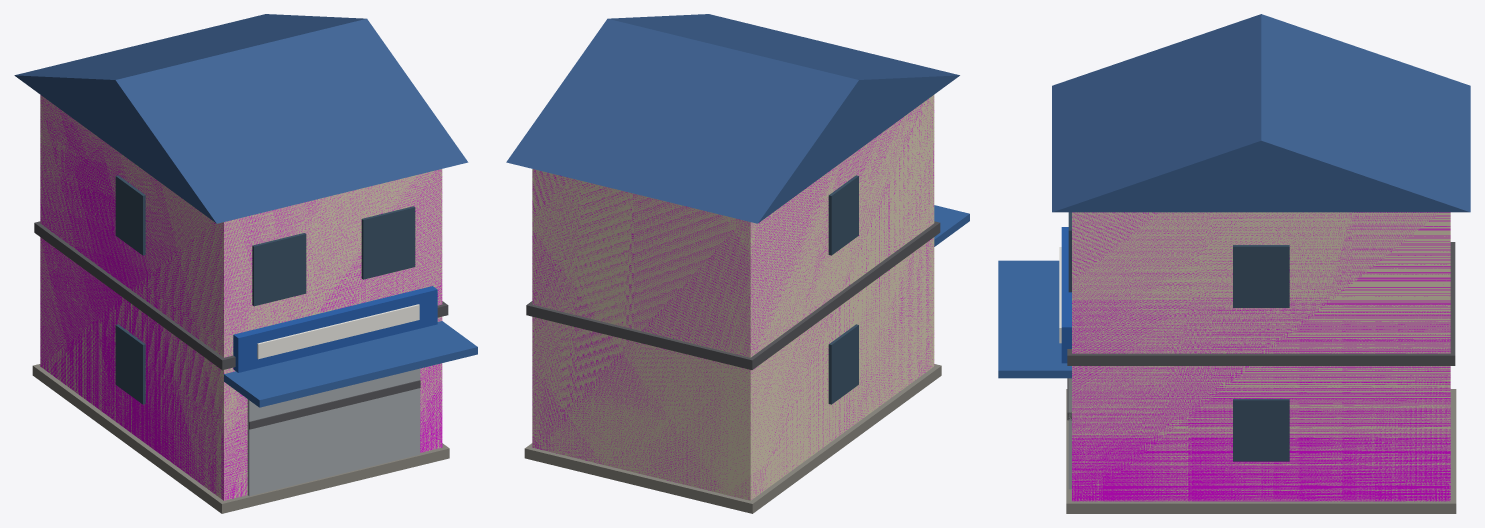
The model's file is Shop_2S_01.glb.
3 renders of one model, left to right at view 1: azimuth 30°, elevation 25°; view 2: azimuth 150°, elevation 25°; view 3: azimuth 270°, elevation 25°, orthographic. The views are drawn at different scales.
Visible parts, largest first — view 1: Shop_2S_01, Shop_2S_01_COL; view 2: Shop_2S_01, Shop_2S_01_COL; view 3: Shop_2S_01, Shop_2S_01_COL.
Boxes of the visible parts, x1,y1,x2,y2 form: Shop_2S_01: [14, 14, 477, 513]; Shop_2S_01_COL: [40, 95, 442, 500]; Shop_2S_01: [506, 14, 969, 513]; Shop_2S_01_COL: [532, 99, 934, 499]; Shop_2S_01: [998, 14, 1470, 513]; Shop_2S_01_COL: [1072, 212, 1450, 501].
Size of the model in its own units: 5.3 by 7.4 by 8.35.
